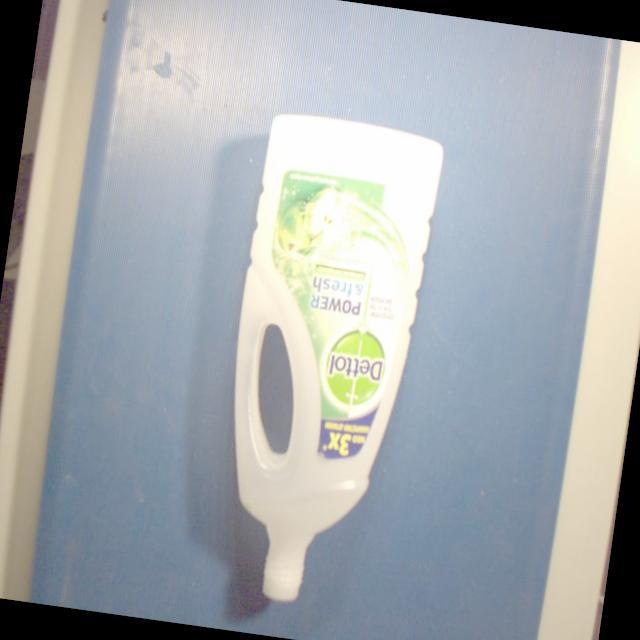HDPE Plastic: (228, 110, 450, 606)
